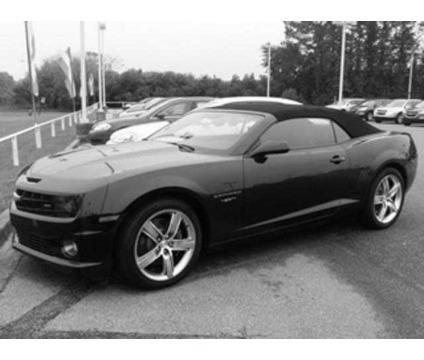car: (7, 97, 422, 295)
